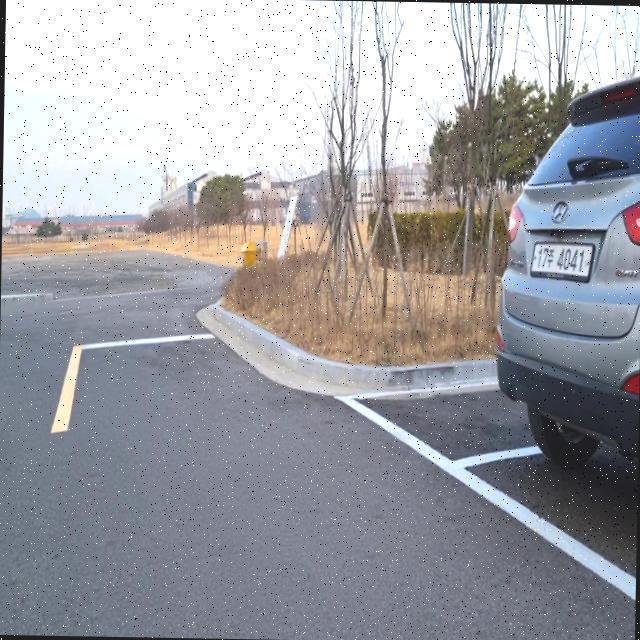Car: (445, 78, 640, 604)
